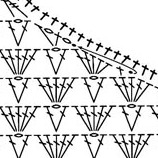enseble_chain: (86, 100, 123, 137), (26, 16, 62, 53), (10, 101, 47, 137), (50, 73, 85, 110), (12, 45, 46, 81), (121, 103, 154, 137), (46, 103, 77, 136), (46, 46, 76, 79), (108, 73, 136, 108), (31, 73, 59, 108), (126, 128, 158, 158), (11, 18, 39, 51), (107, 128, 137, 158), (87, 76, 114, 107), (73, 102, 98, 134), (53, 132, 83, 158), (39, 46, 63, 78), (0, 102, 23, 135), (0, 0, 33, 23), (12, 77, 36, 107), (0, 46, 22, 78), (77, 44, 98, 76), (88, 132, 113, 158), (14, 133, 36, 158), (124, 76, 141, 103)
fan: (33, 74, 60, 107), (40, 131, 60, 158), (79, 132, 99, 158), (9, 105, 27, 132), (4, 133, 23, 158), (10, 48, 26, 75), (51, 133, 64, 158)
